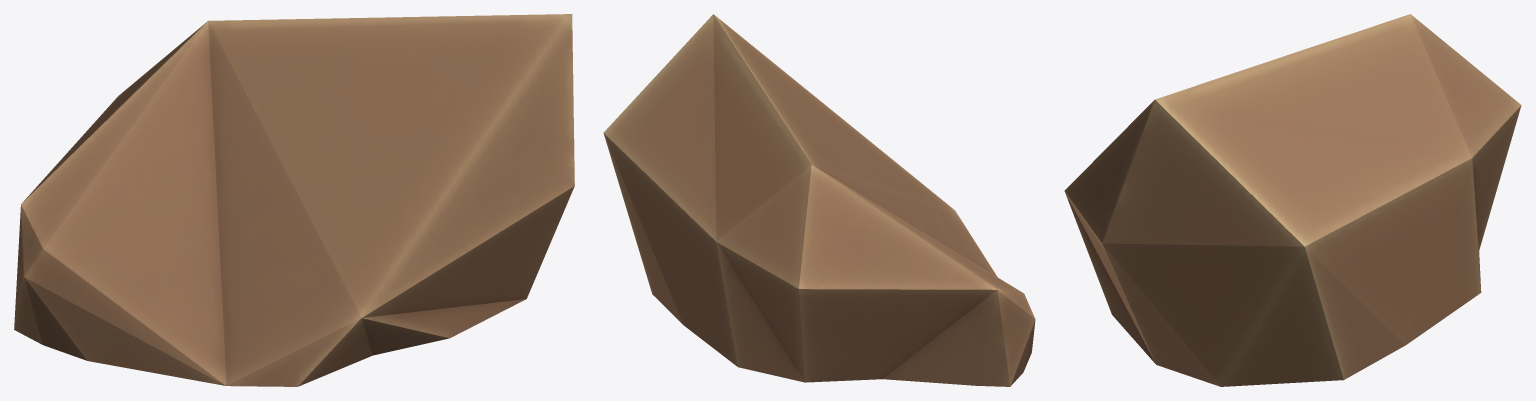
Rendered from Rock_43.fbx.
3 views of the same model, side by side, from view 1: azimuth 30°, elevation 25°; view 2: azimuth 150°, elevation 25°; view 3: azimuth 270°, elevation 25° (orthographic). The views are drawn at different scales.
Visible parts, largest first — view 1: Rock_43; view 2: Rock_43; view 3: Rock_43.
Boxes of the visible parts, left/top/right/bottom form: Rock_43: left=14, top=14, right=574, bottom=386; Rock_43: left=603, top=14, right=1035, bottom=386; Rock_43: left=1064, top=14, right=1521, bottom=386.
Bounding box in the file's own units: 42.01 × 29.58 × 20.72.
Materials: 1 (1 with a texture image).
